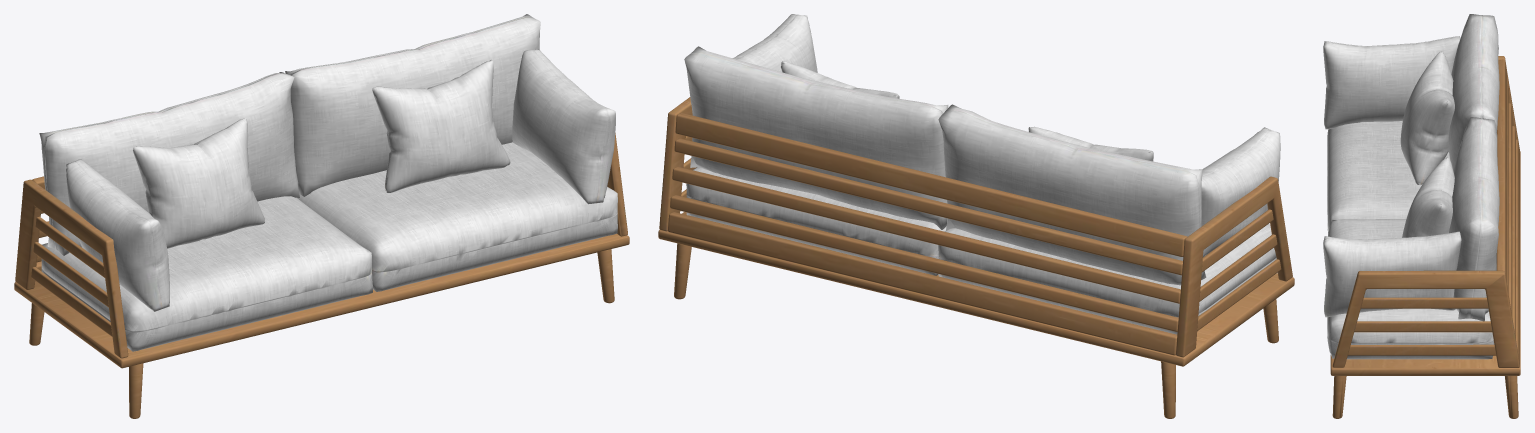
File: d19dd7b1-6573-41c7-b12c-b3eccdb7047d.glb
3 views of the same model, side by side, from view 1: azimuth 30°, elevation 25°; view 2: azimuth 150°, elevation 25°; view 3: azimuth 270°, elevation 25° (orthographic). The views are drawn at different scales.
Visible parts, largest first — view 1: Cotton Mini Sofa; view 2: Cotton Mini Sofa; view 3: Cotton Mini Sofa.
Part boxes in pixels (left/top/right/bottom): Cotton Mini Sofa: left=14, top=14, right=629, bottom=418; Cotton Mini Sofa: left=658, top=14, right=1294, bottom=418; Cotton Mini Sofa: left=1323, top=14, right=1520, bottom=418.
Size of the model in its own units: 2.55 by 1.1 by 0.9722.
Materials: 1 (1 with a texture image).
